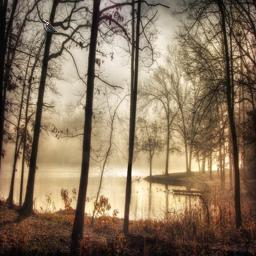Woodpecker: (43, 20, 57, 33)
